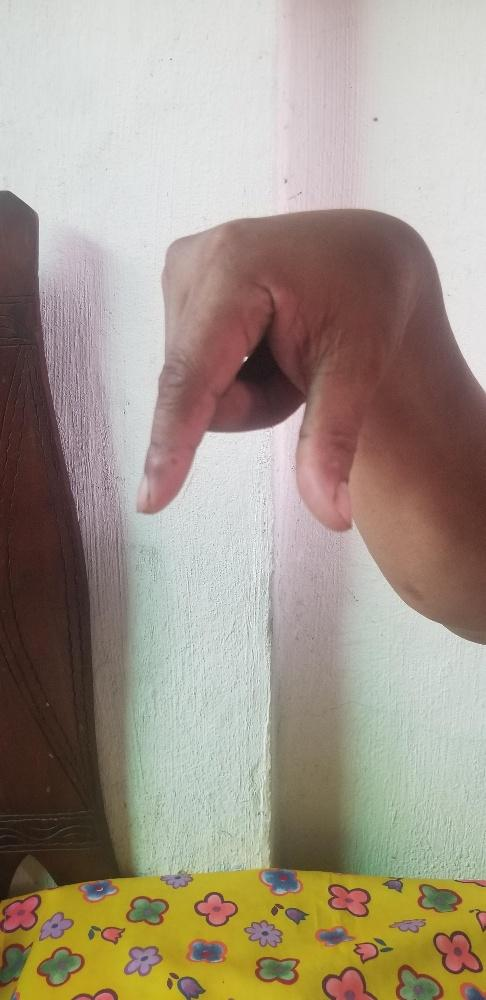q: (132, 190, 405, 533)
